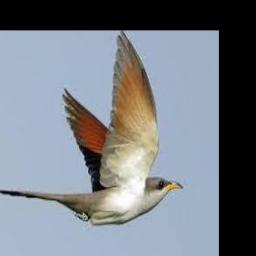Cuckoo: (0, 30, 182, 224)
